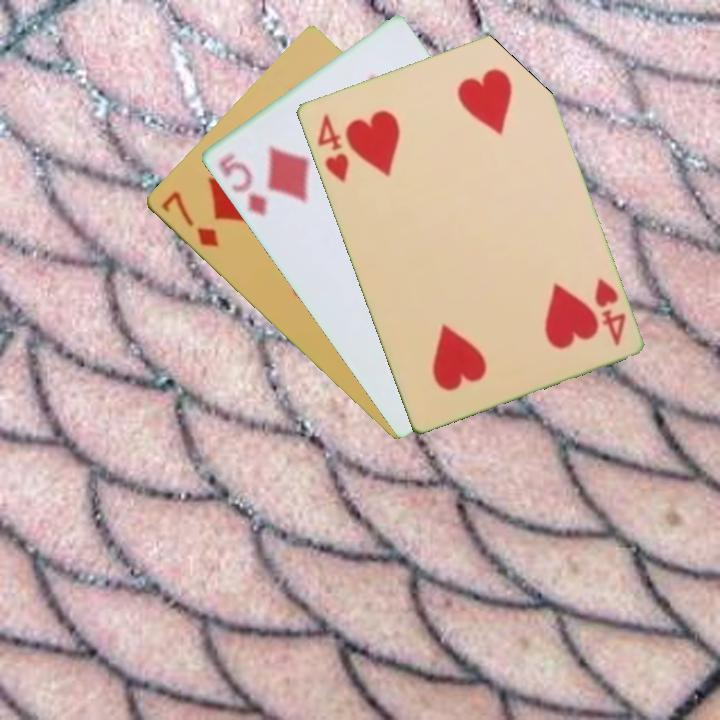4h: (313, 110, 351, 185), (590, 275, 628, 348)
5d: (214, 149, 269, 219)
7d: (157, 187, 222, 250)
